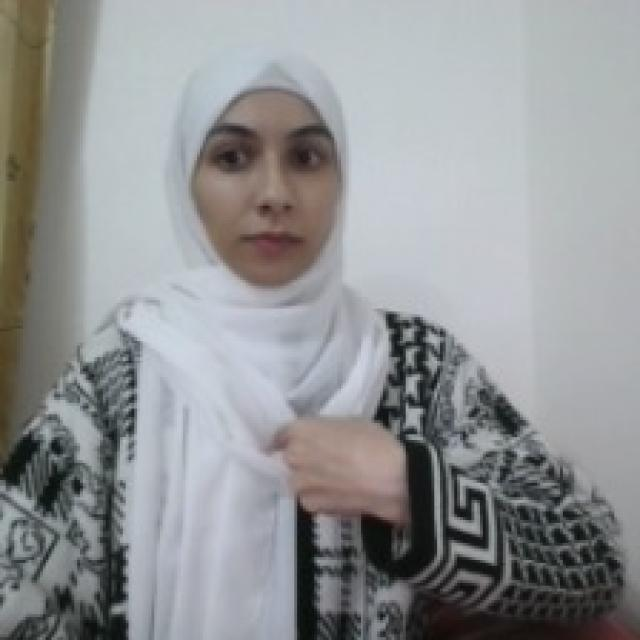me: (264, 407, 408, 534)
